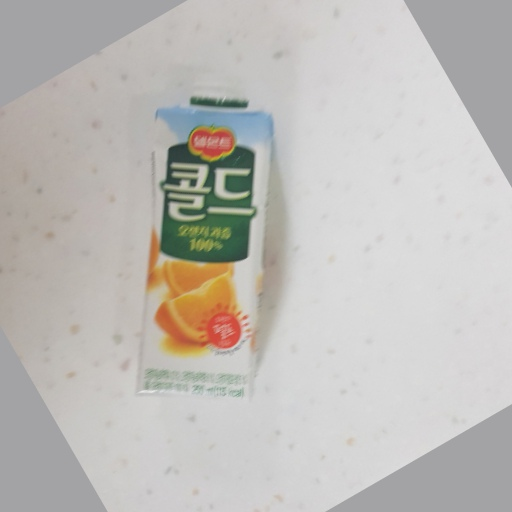Paper_0: (141, 89, 286, 409)
